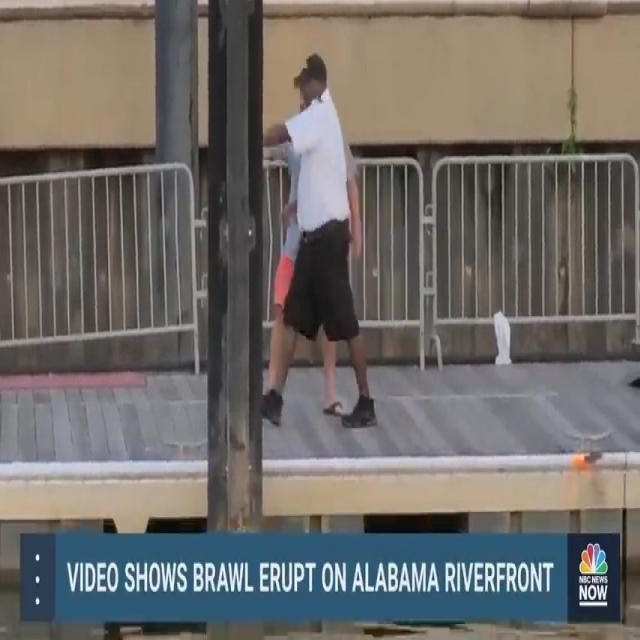non-fight: (260, 49, 384, 451)
